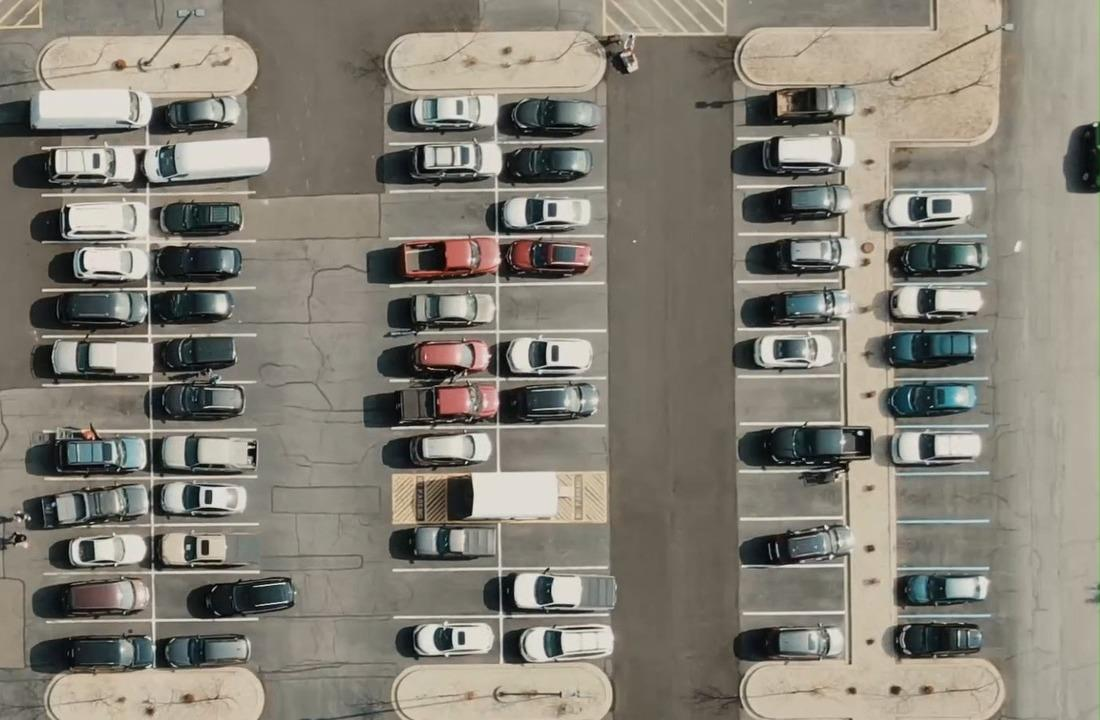car: (140, 136, 271, 184), (20, 482, 149, 530), (738, 422, 872, 468), (482, 569, 617, 613), (28, 87, 152, 131), (731, 133, 855, 177), (375, 140, 489, 185), (384, 290, 496, 335), (738, 522, 855, 565), (186, 574, 296, 618), (395, 235, 500, 280), (741, 183, 852, 224), (732, 622, 844, 662), (502, 623, 614, 663), (158, 431, 258, 475), (499, 381, 599, 423), (143, 382, 245, 422), (484, 196, 591, 234), (42, 144, 137, 186), (763, 235, 865, 274), (501, 237, 593, 279), (509, 95, 602, 136), (58, 576, 150, 617), (395, 620, 494, 658), (500, 144, 593, 184), (881, 189, 973, 229), (883, 329, 977, 368), (55, 289, 148, 328), (888, 284, 982, 322), (58, 200, 147, 240), (504, 336, 593, 376), (151, 243, 242, 282), (896, 240, 989, 277), (765, 286, 852, 325), (890, 429, 981, 466), (405, 524, 496, 561), (408, 338, 492, 378), (770, 84, 856, 123), (894, 621, 983, 658), (886, 381, 977, 417), (155, 481, 246, 517), (156, 334, 237, 373), (407, 431, 492, 468), (149, 288, 234, 325), (897, 572, 989, 606), (157, 200, 243, 236), (163, 94, 241, 133), (751, 333, 834, 369), (71, 245, 148, 282), (407, 94, 482, 131)
